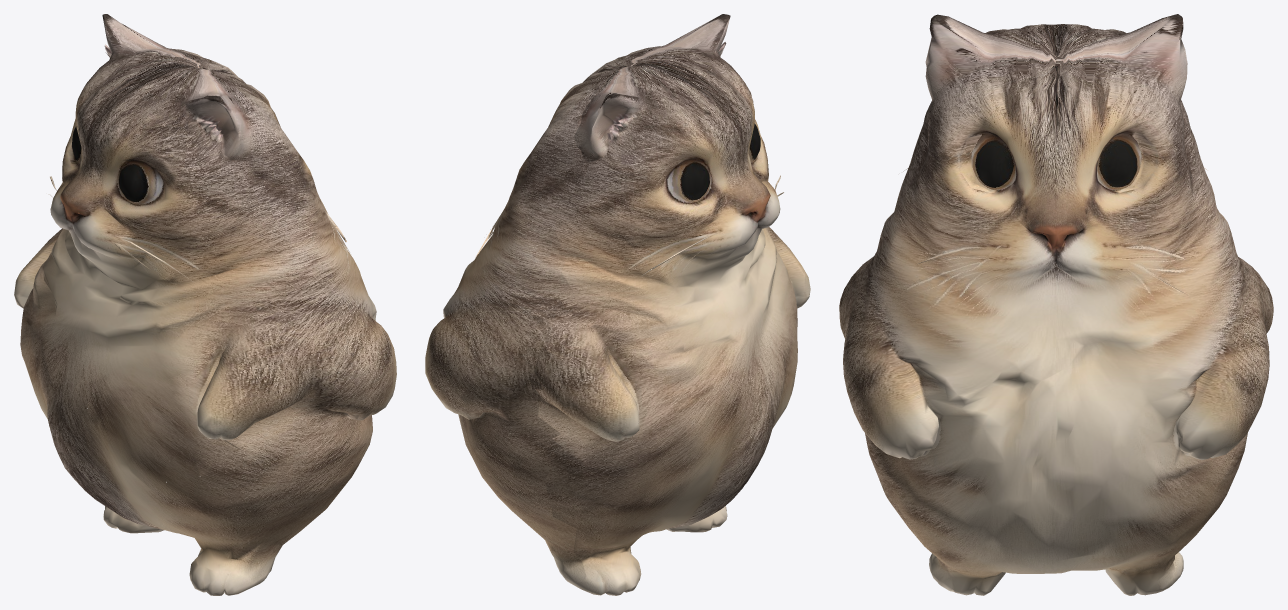
The model's file is minion-d.glb.
3 renders of one model, left to right at view 1: azimuth 30°, elevation 25°; view 2: azimuth 150°, elevation 25°; view 3: azimuth 270°, elevation 25°, orthographic. The views are drawn at different scales.
Parts seen in each view (by area): view 1: minion-d; view 2: minion-d; view 3: minion-d.
Part boxes in pixels (left/top/right/bottom): minion-d: left=14, top=14, right=396, bottom=595; minion-d: left=425, top=14, right=810, bottom=595; minion-d: left=839, top=14, right=1273, bottom=595.
Bounding box in the file's own units: 0.5919 × 0.9799 × 0.7015.
Materials: 1 (1 with a texture image).
